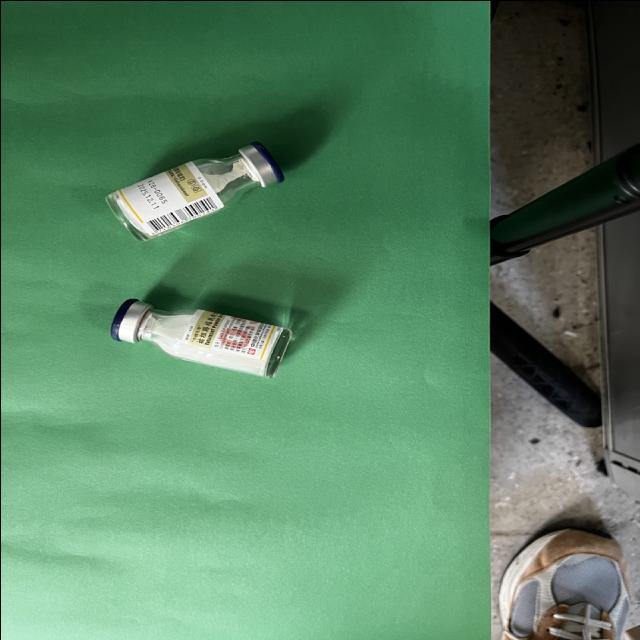Vials: (106, 142, 283, 240), (110, 298, 291, 376)
